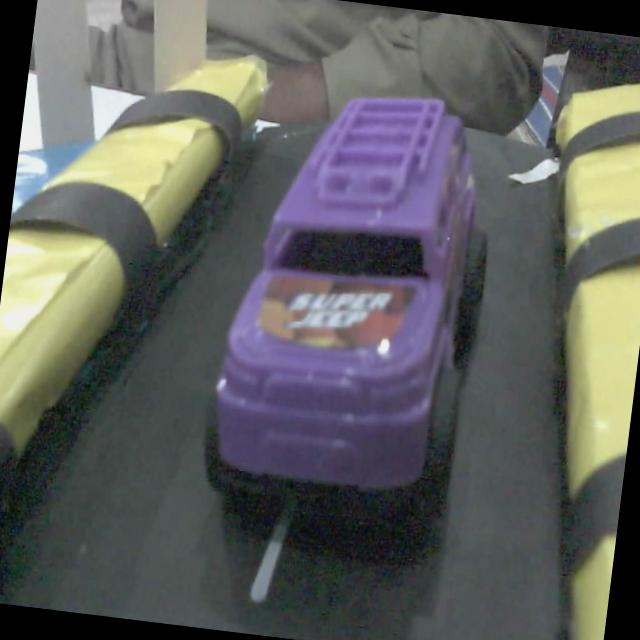OneCar: (193, 70, 538, 564)
